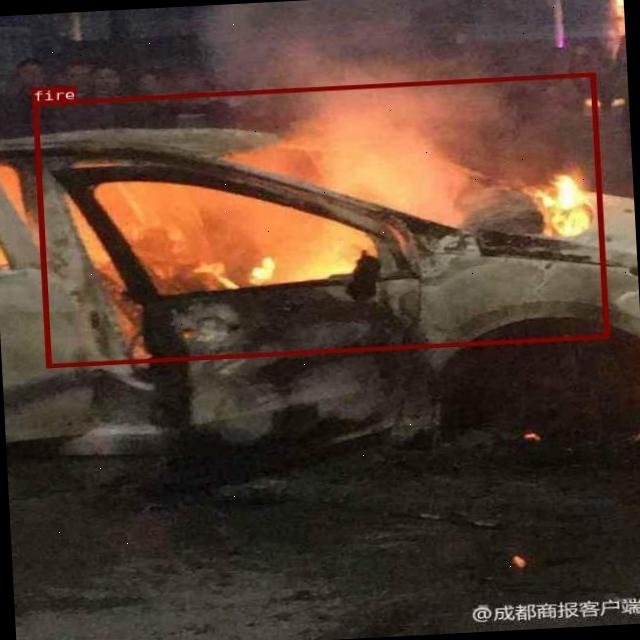fire: (32, 71, 608, 368)
